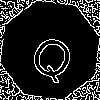Q: (25, 25, 83, 86)
